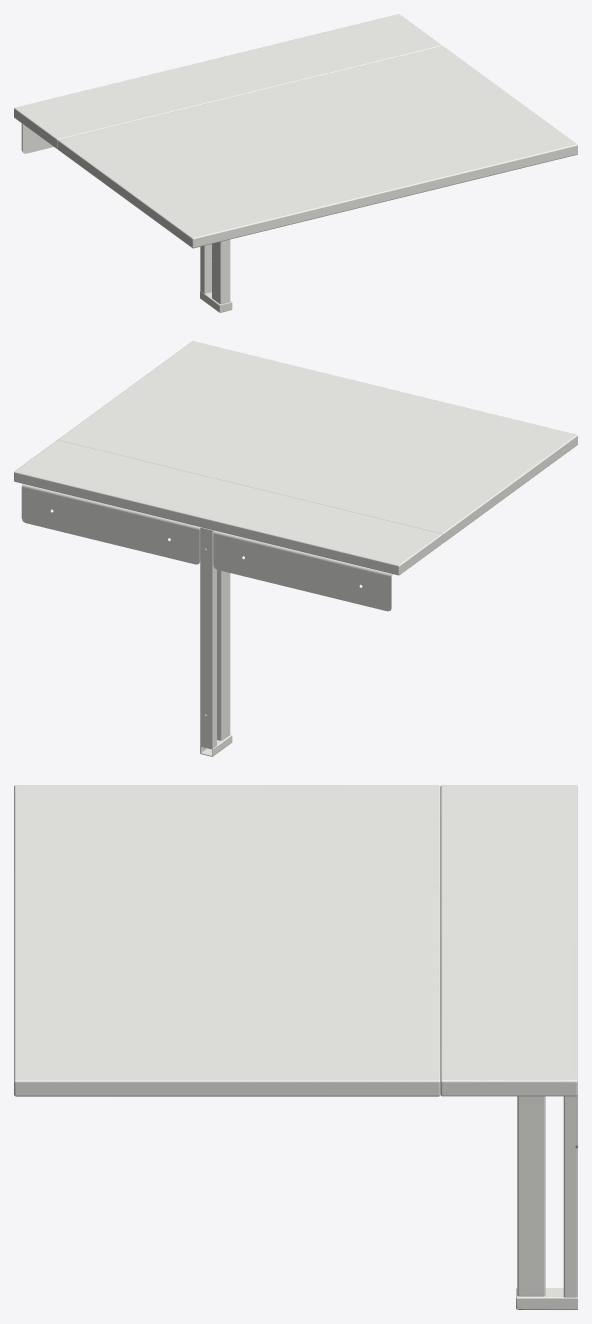
Rendered from norberg_stolik_skadany_scienny_30180504.glb.
3 views of the same model, one above another, from view 1: azimuth 30°, elevation 25°; view 2: azimuth 150°, elevation 25°; view 3: azimuth 270°, elevation 25° (orthographic). The views are drawn at different scales.
Visible parts, largest first — view 1: norberg_stolik_skadany_scienny_30180504; view 2: norberg_stolik_skadany_scienny_30180504; view 3: norberg_stolik_skadany_scienny_30180504.
Boxes of the visible parts, bbox=[...] form: norberg_stolik_skadany_scienny_30180504: bbox=[14, 14, 577, 312]; norberg_stolik_skadany_scienny_30180504: bbox=[14, 341, 577, 756]; norberg_stolik_skadany_scienny_30180504: bbox=[14, 785, 577, 1309].
Size of the model in its own units: 0.7401 by 0.435 by 0.595.
Materials: 1 (1 with a texture image).
